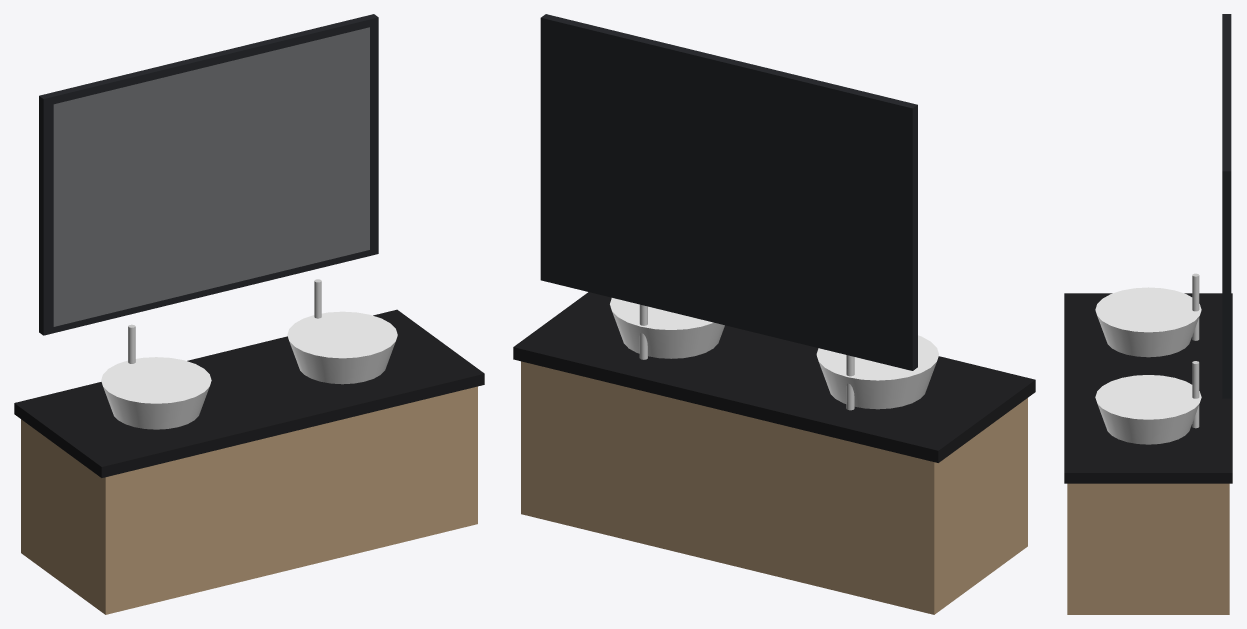
File: archviz_vanity_double_mirror.glb
3 views of the same model, side by side, from view 1: azimuth 30°, elevation 25°; view 2: azimuth 150°, elevation 25°; view 3: azimuth 270°, elevation 25° (orthographic). The views are drawn at different scales.
Bounding box in the file's own units: 1.44 × 1.63 × 0.57.
